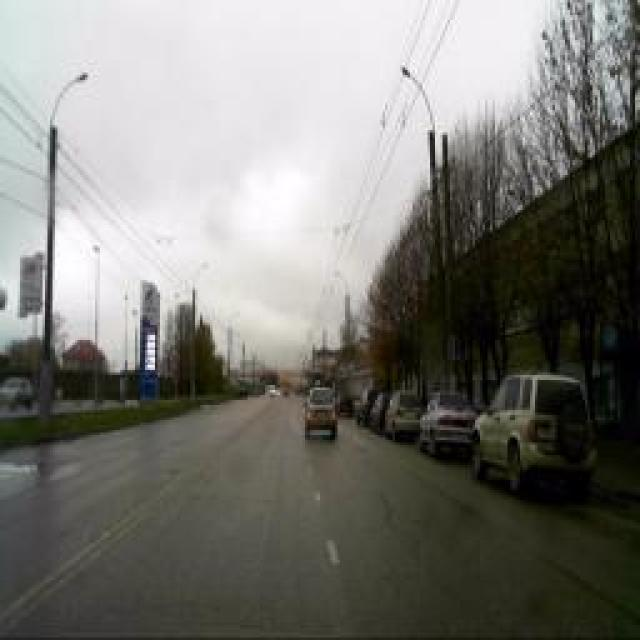sign: (446, 336, 459, 362)
